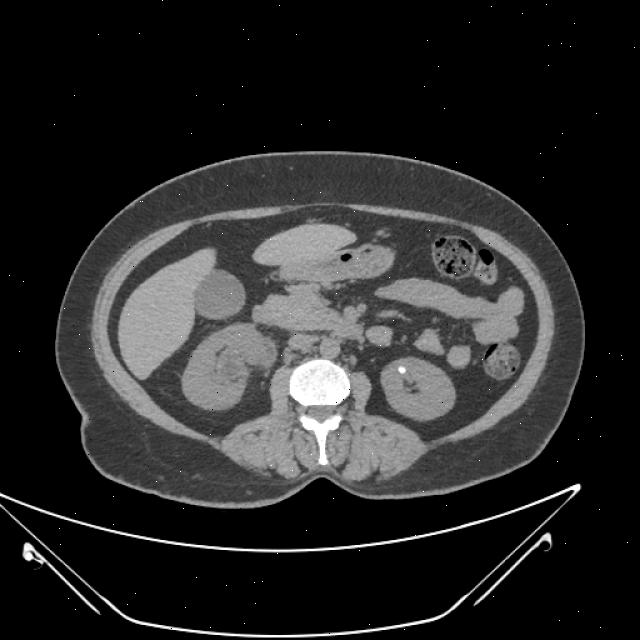kidneystone: (398, 366, 406, 374)
